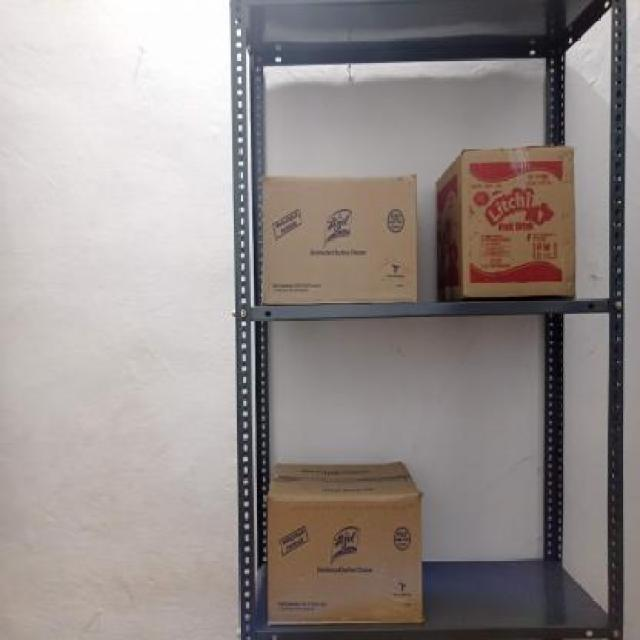box: (262, 174, 421, 303), (267, 495, 422, 625), (460, 145, 576, 299)
